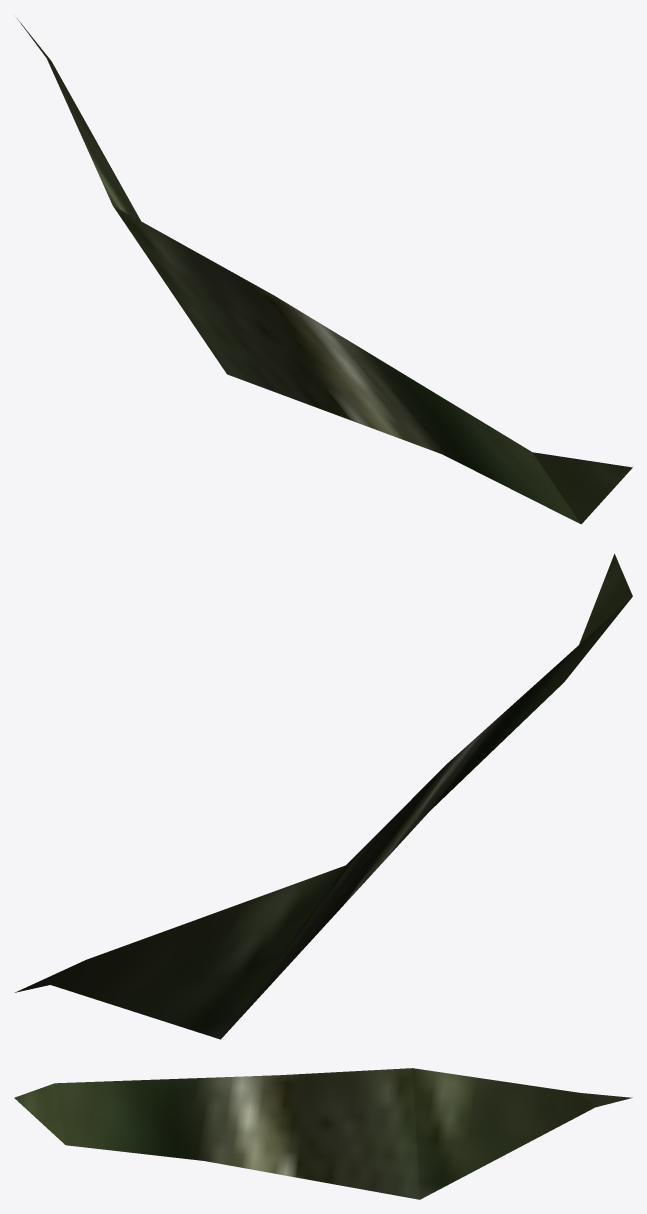
3 renders of one model, top to bottom at view 1: azimuth 30°, elevation 25°; view 2: azimuth 150°, elevation 25°; view 3: azimuth 270°, elevation 25°, orthographic. The views are drawn at different scales.
Bounding box in the file's own units: 0.1414 × 0.2265 × 1.25.
Materials: 1 (1 with a texture image).
